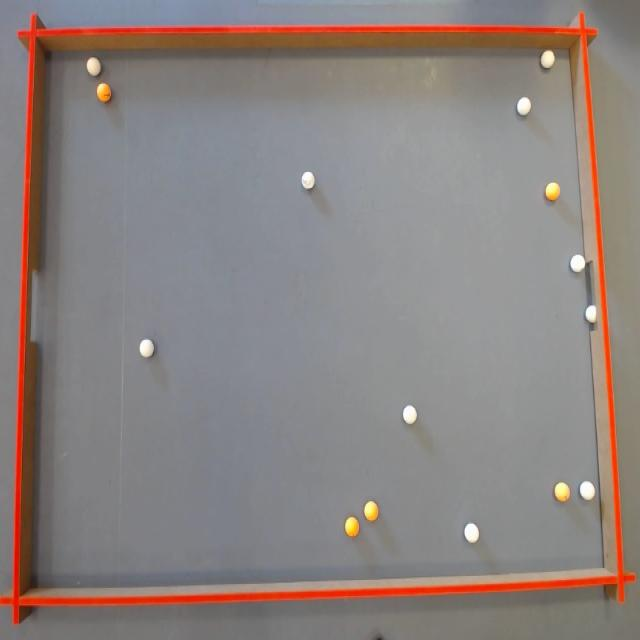orange_ball: (554, 482, 570, 502), (364, 501, 378, 521), (345, 517, 359, 537), (546, 182, 560, 201), (97, 83, 111, 102)
white_ball: (570, 254, 586, 273), (464, 523, 479, 543), (580, 481, 595, 501), (402, 405, 417, 424), (139, 339, 154, 358), (540, 50, 555, 69), (517, 97, 531, 116), (86, 57, 100, 76), (301, 172, 314, 190), (585, 305, 597, 323)
